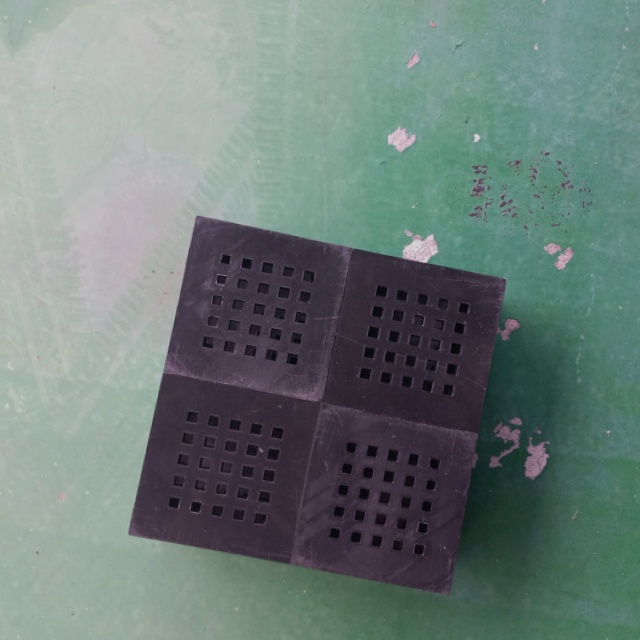pallet: (121, 198, 520, 600)
